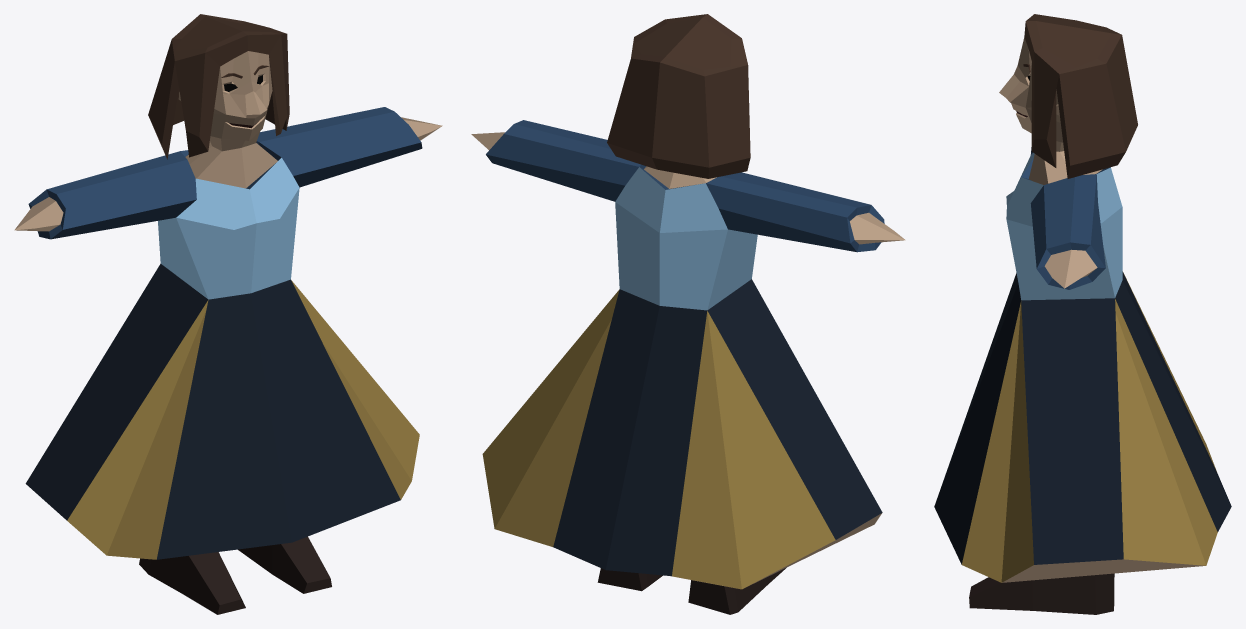
Rendered from lady.fbx.
The picture shows the model from 3 angles, left to right: view 1: azimuth 30°, elevation 25°; view 2: azimuth 150°, elevation 25°; view 3: azimuth 270°, elevation 25°; orthographic projection. The views are drawn at different scales.
Visible parts, largest first — view 1: Cube; view 2: Cube; view 3: Cube.
Boxes of the visible parts, bbox=[...] form: Cube: bbox=[14, 14, 442, 614]; Cube: bbox=[471, 14, 905, 614]; Cube: bbox=[934, 14, 1231, 614].
Size of the model in its own units: 808 by 989 by 475.
